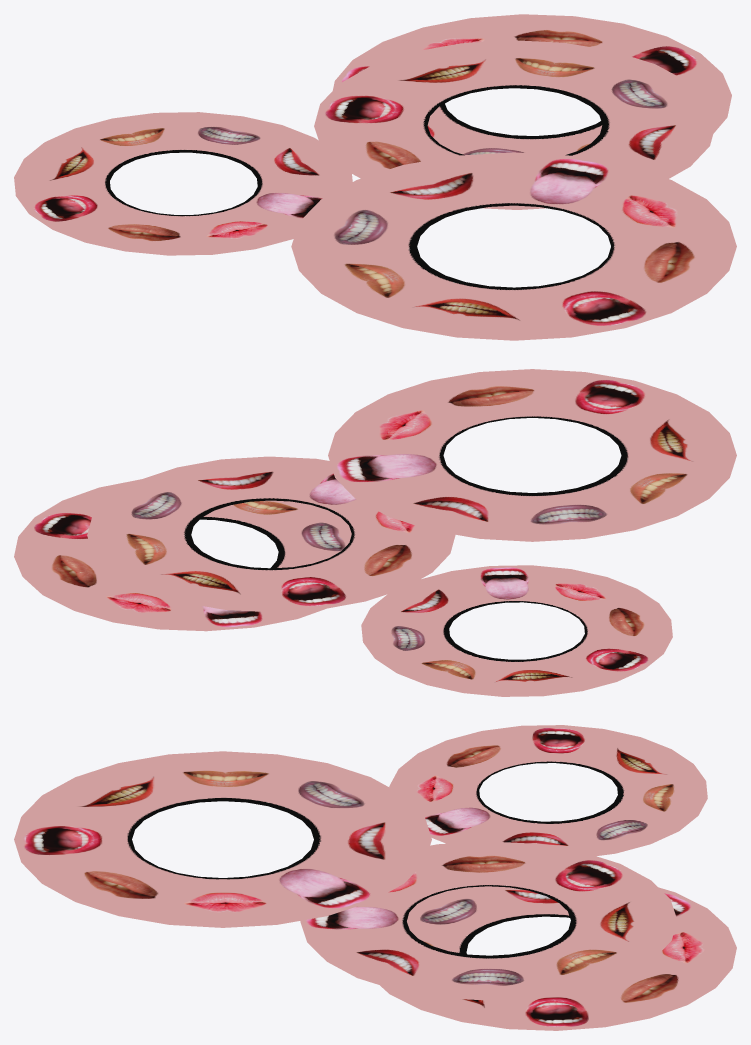
Rendered from disco-bocas-2.dae.
3 views of the same model, one above another, from view 1: azimuth 30°, elevation 25°; view 2: azimuth 150°, elevation 25°; view 3: azimuth 270°, elevation 25° (orthographic). The views are drawn at different scales.
Visible parts, largest first — view 1: Circle, Circle.004, Circle.002, Circle.001; view 2: Circle, Circle.004, Circle.002, Circle.001; view 3: Circle, Circle.004, Circle.002, Circle.001.
Part boxes in pixels (x1=…): Circle: x1=291, y1=152, x2=736, y2=340; Circle.004: x1=314, y1=40, x2=715, y2=209; Circle.002: x1=14, y1=112, x2=352, y2=255; Circle.001: x1=333, y1=14, x2=731, y2=155; Circle: x1=328, y1=369, x2=736, y2=541; Circle.004: x1=87, y1=456, x2=455, y2=612; Circle.002: x1=361, y1=565, x2=672, y2=696; Circle.001: x1=14, y1=479, x2=351, y2=631; Circle: x1=14, y1=751, x2=431, y2=927; Circle.004: x1=300, y1=841, x2=677, y2=1000; Circle.002: x1=389, y1=725, x2=707, y2=856; Circle.001: x1=380, y1=886, x2=736, y2=1030.
Size of what is drawn, in the model's own units: 2.12 by 2.12 by 0.079.
